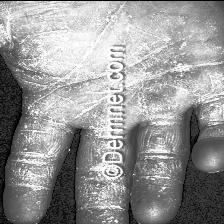Toxin: (136, 90, 179, 120), (13, 34, 57, 61), (34, 76, 56, 96)
